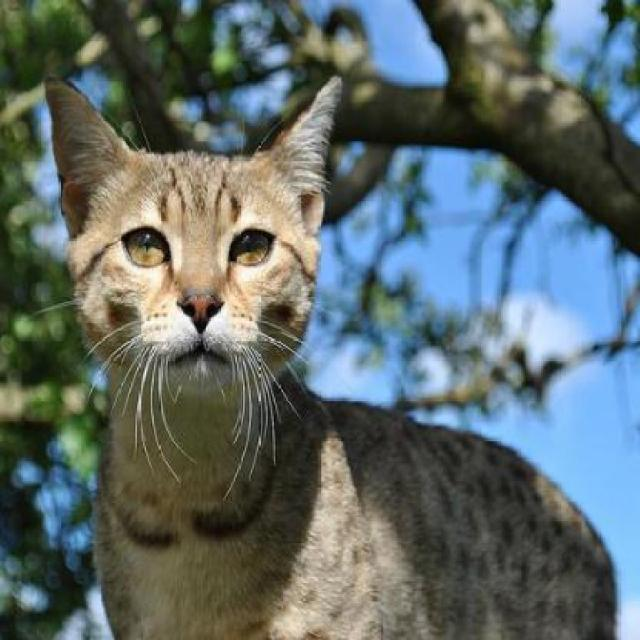cat: (42, 72, 616, 638)
